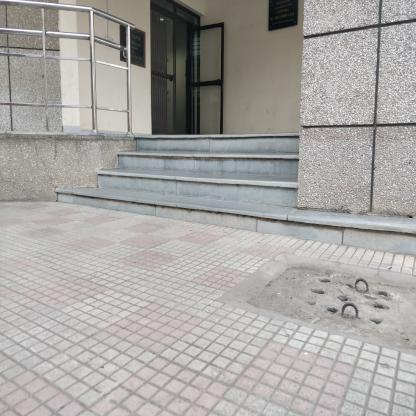stairs: (139, 134, 299, 233)
